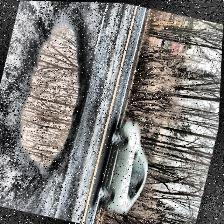pothole: (5, 14, 104, 184)
